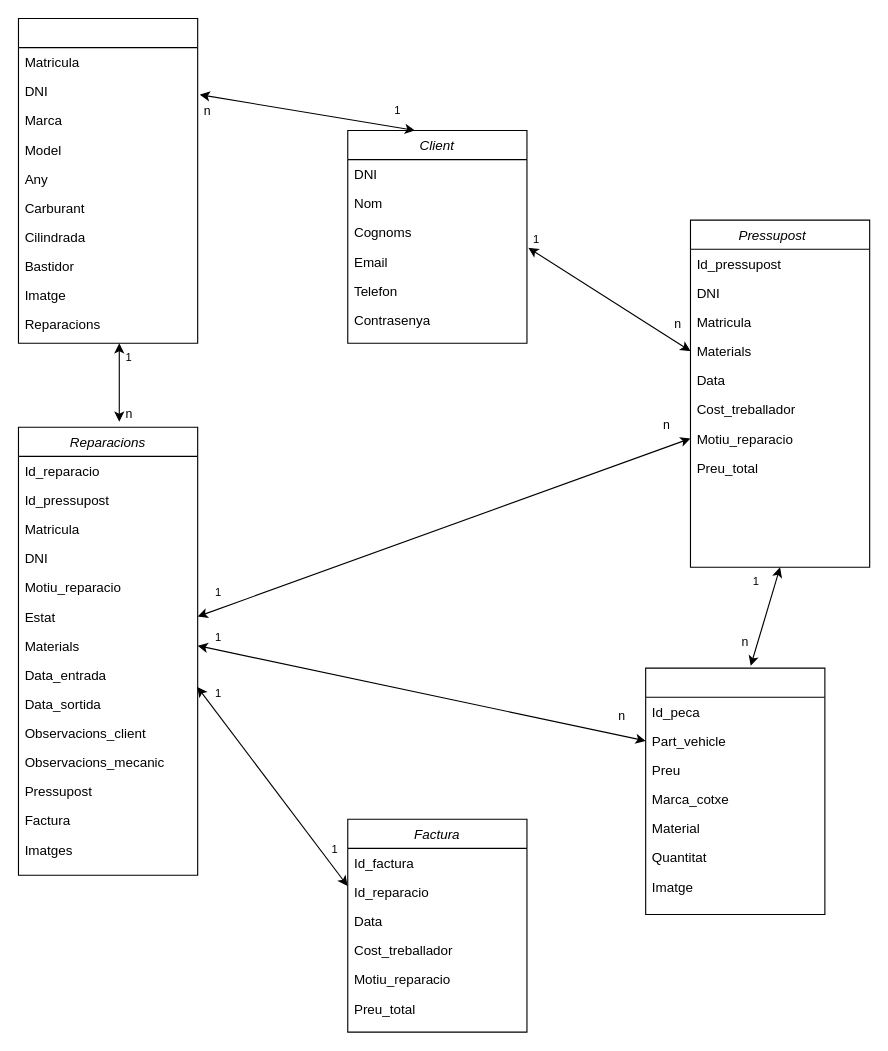
The diagram is 888 pixels wide and 1051 high, and some of its shapes have lost their labels. The box of each missing label's shape, as (x1, y1, x2, y2) in pixels:
Cotxe: (17, 17, 198, 343)
Inventari: (645, 667, 825, 914)
